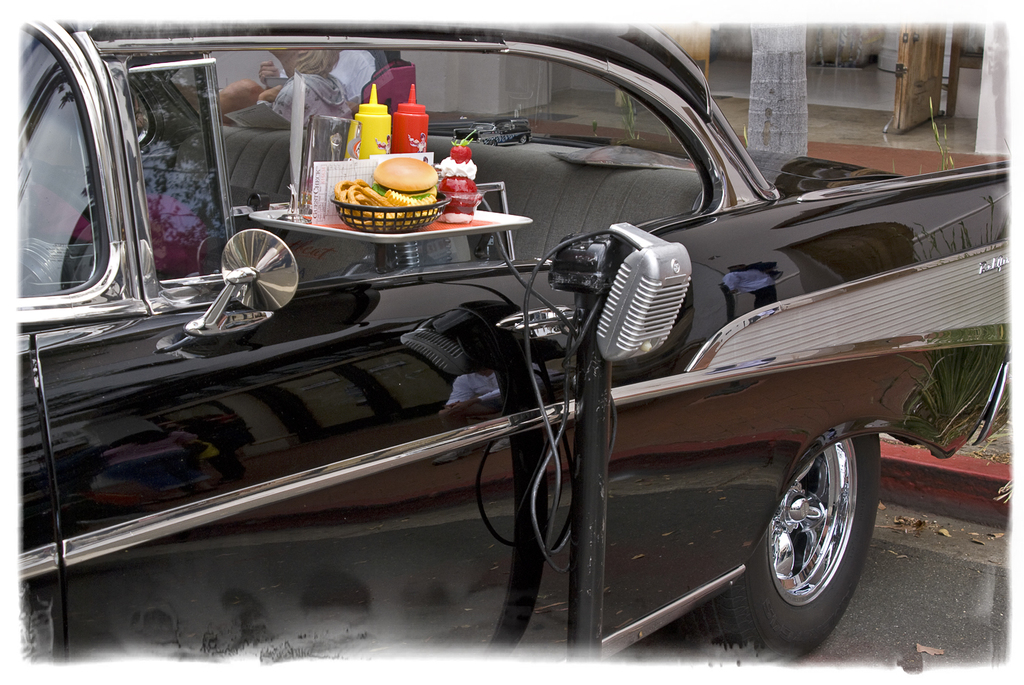Hamburger: (370, 154, 438, 199)
